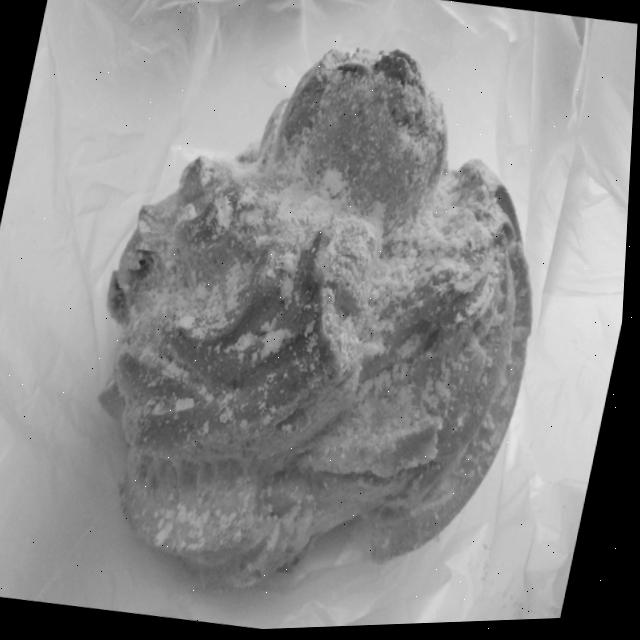炸货点心: (28, 0, 599, 638)
蛋糕甜品: (28, 0, 599, 638)
